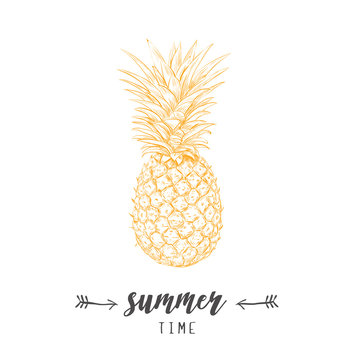Pineapple: (117, 38, 236, 268)
